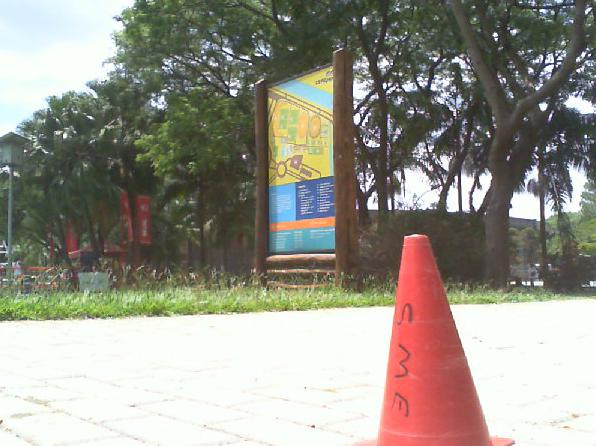0 cone: (352, 234, 514, 446)
